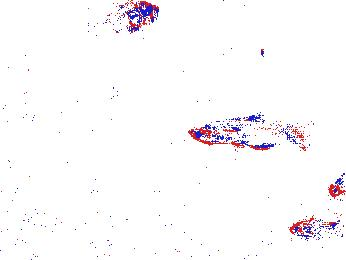X-ray fish: (90, 1, 161, 34)
red belly glassfish: (290, 218, 338, 238), (327, 170, 346, 197)
redtail glassfish: (186, 113, 300, 150)
